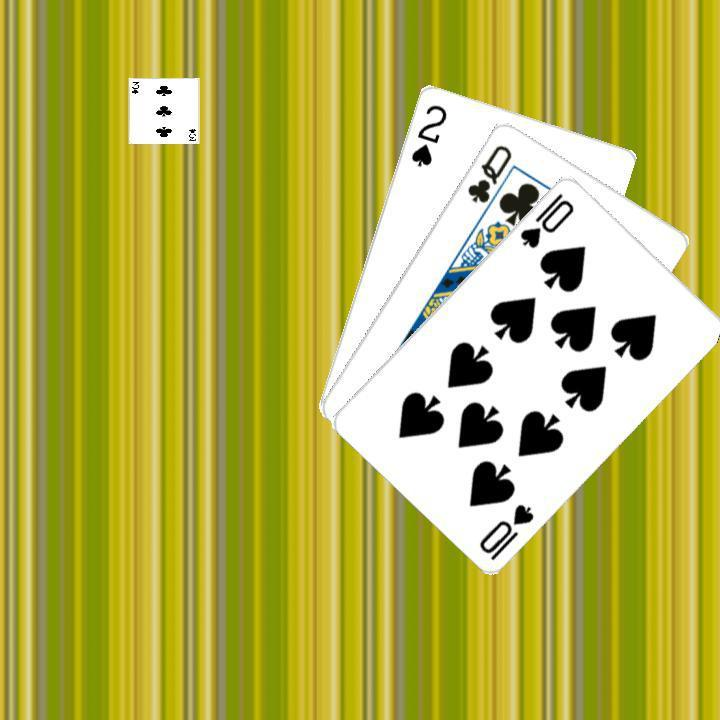10: (474, 498, 536, 562), (515, 188, 576, 250)
2: (406, 100, 449, 169)
Q: (462, 139, 514, 205)
